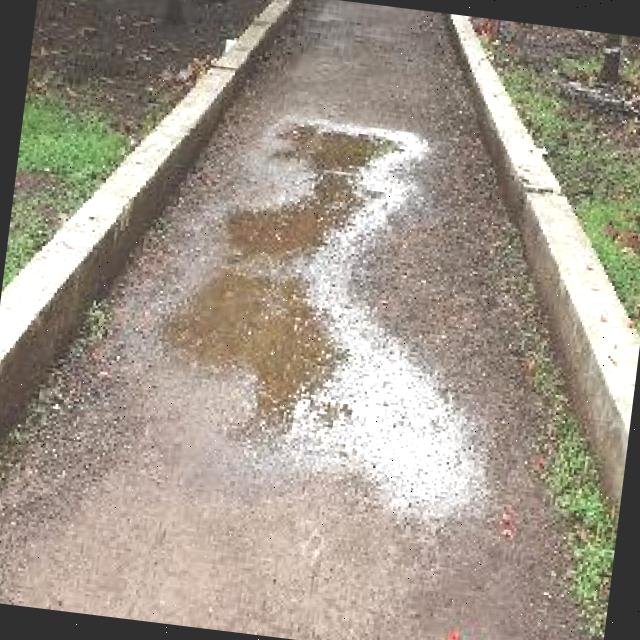stagnation: (168, 92, 410, 450)
